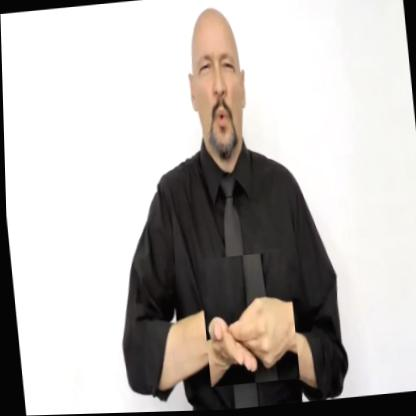Expensive: (197, 252, 298, 389)
